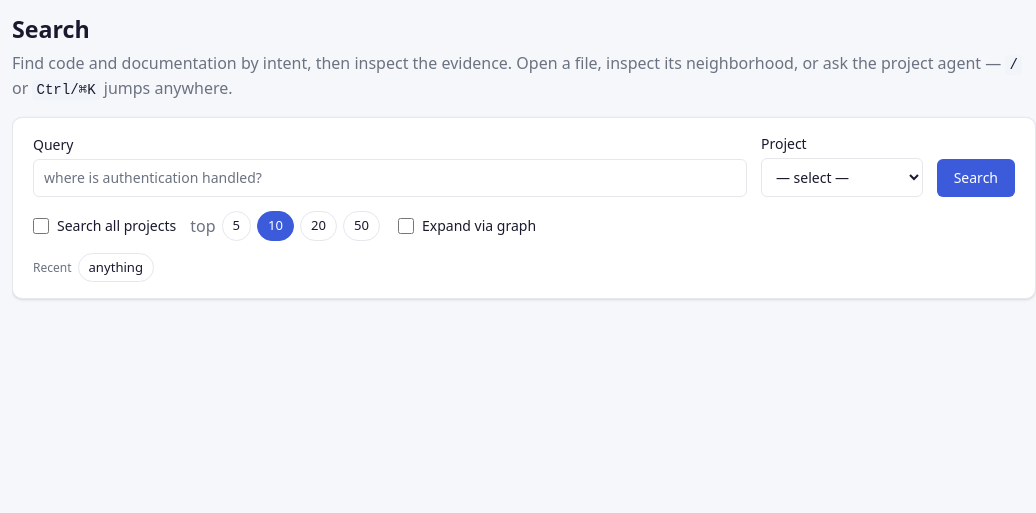
Test: SearchPage degraded badge › sends graph expansion when the toggle is on
Click the checkbox labelled "Expand via graph": (406, 226) [398,218,414,234]
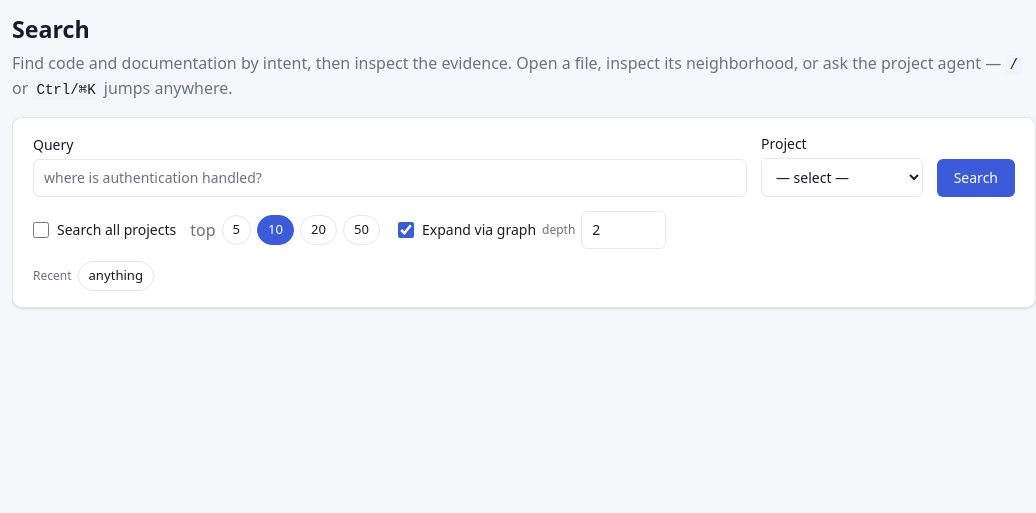
In the field with placeholder "where is authentication handled?": (390, 178) [33,159,747,197], type "auth"
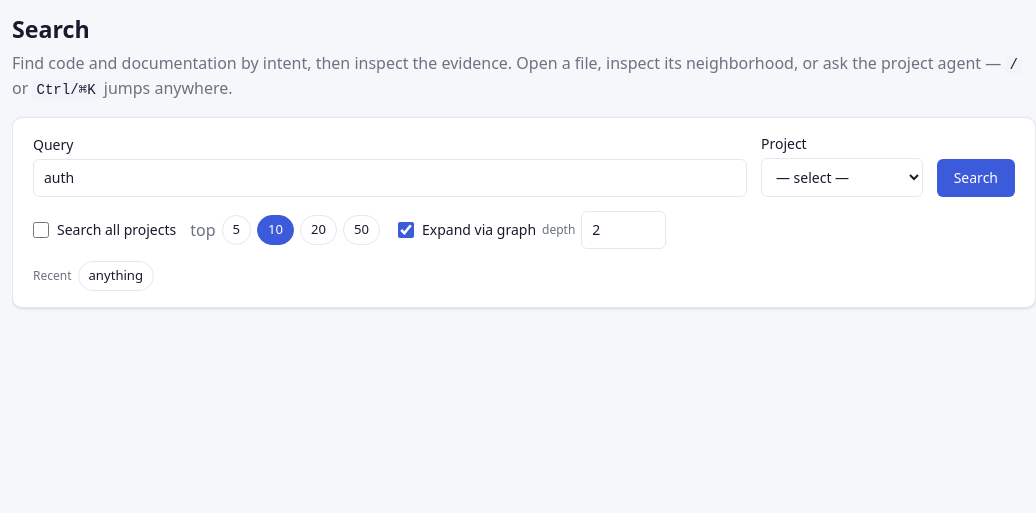
Click the button "Search": (976, 178) [937,159,1015,197]
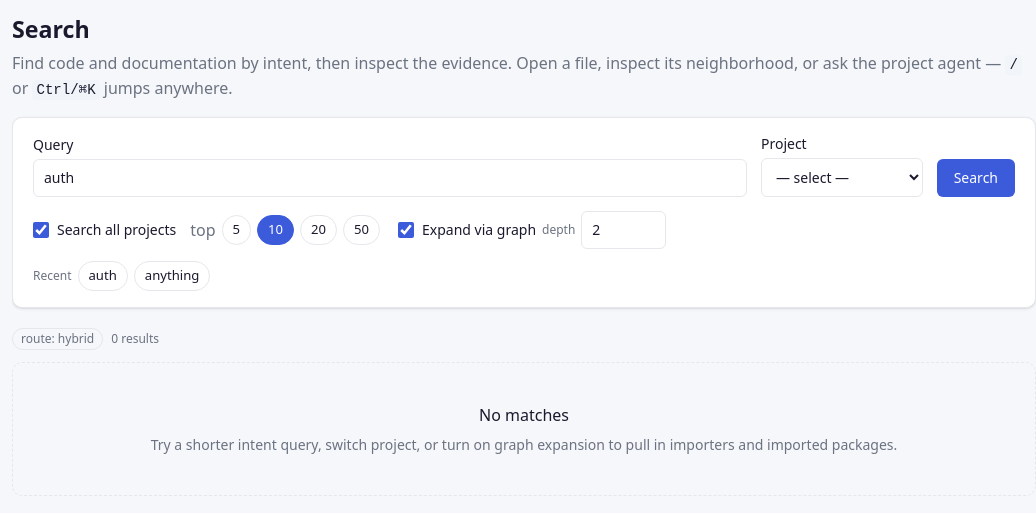
Expected: the text "No matches" is shown, [479,403,569,427]
